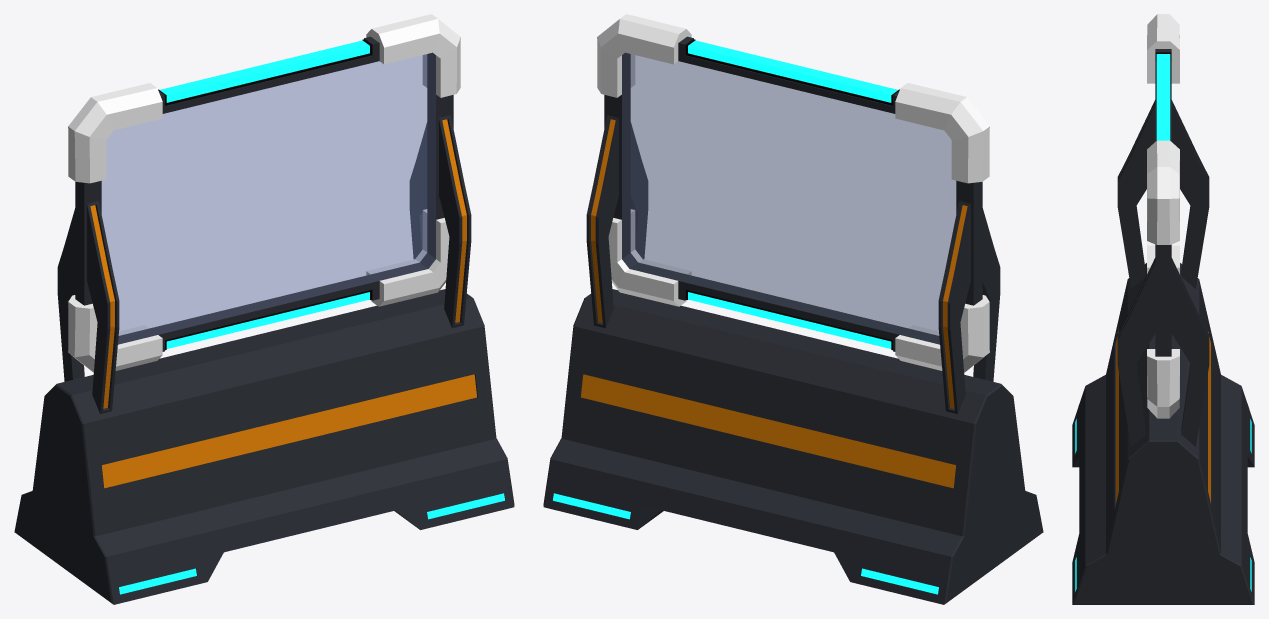
Rendered from SM_Defense_ShieldBarrier.fbx.
3 renders of one model, left to right at view 1: azimuth 30°, elevation 25°; view 2: azimuth 150°, elevation 25°; view 3: azimuth 270°, elevation 25°, orthographic. The views are drawn at different scales.
Parts seen in each view (by area): view 1: SM_Defense_ShieldBarrier; view 2: SM_Defense_ShieldBarrier; view 3: SM_Defense_ShieldBarrier.
Boxes of the visible parts, bbox=[...] form: SM_Defense_ShieldBarrier: bbox=[14, 14, 514, 604]; SM_Defense_ShieldBarrier: bbox=[543, 14, 1043, 604]; SM_Defense_ShieldBarrier: bbox=[1072, 14, 1254, 604].
Bounding box in the file's own units: 1 × 1.1 × 0.4264.
